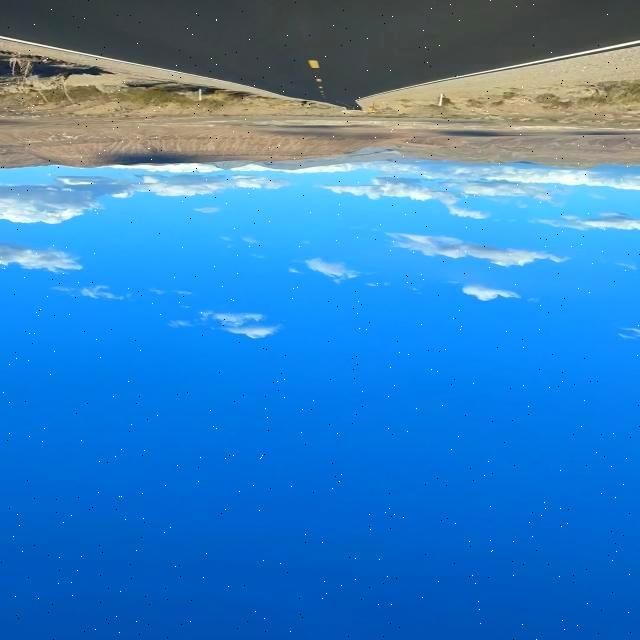lane: (408, 37, 640, 87), (578, 6, 625, 32), (308, 59, 320, 69)
road: (0, 1, 639, 109)
